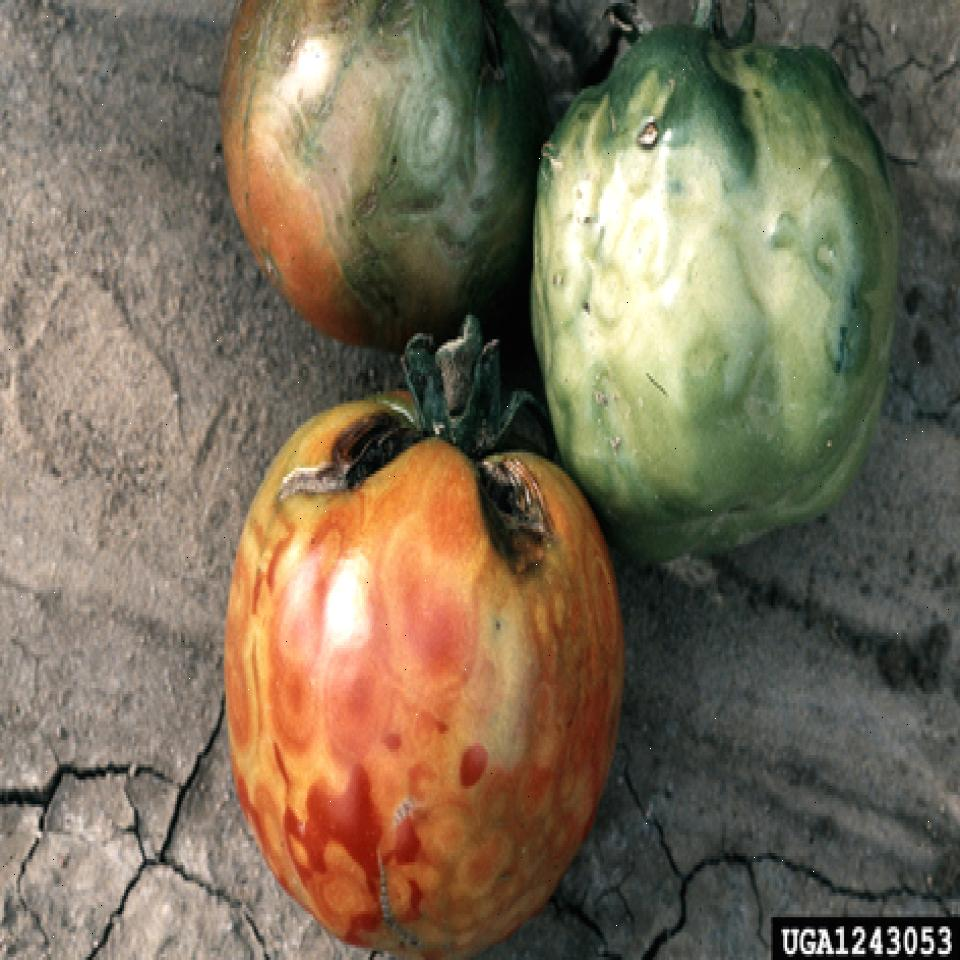Spotted wilt Virus: (222, 391, 620, 960), (534, 19, 904, 545), (223, 0, 550, 352)
